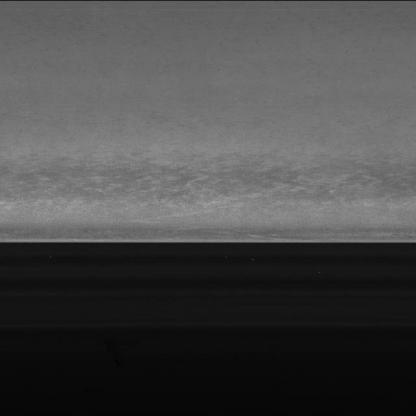silk_spot: (0, 140, 356, 199)
